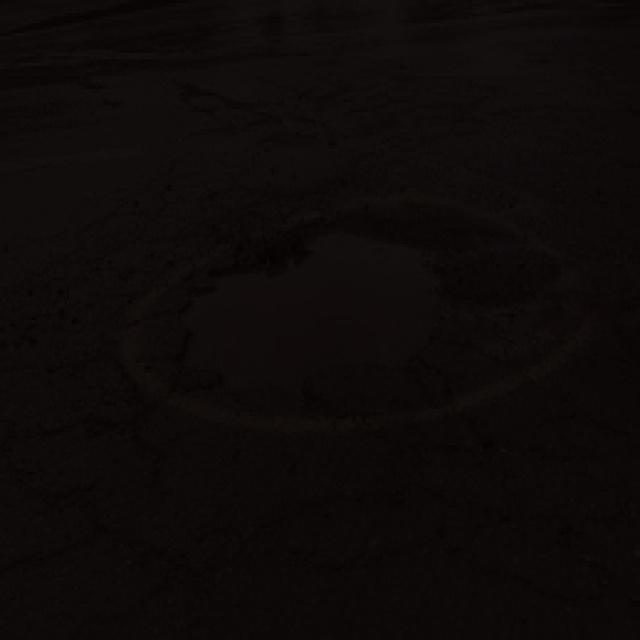Pothole: (174, 209, 454, 404)
